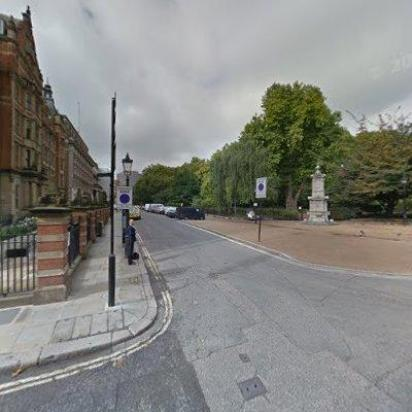stationary-light-truck-onstreet: (175, 205, 207, 223), (127, 202, 142, 220), (144, 204, 164, 213)
